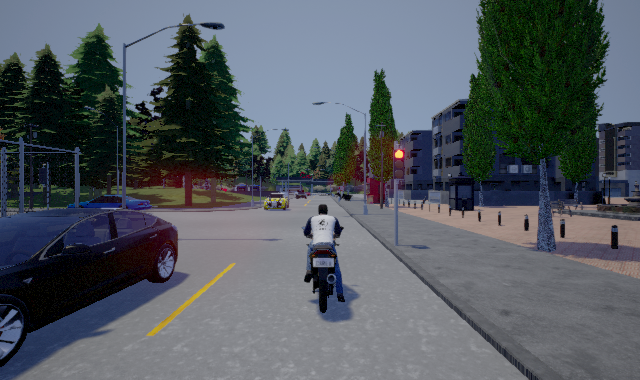motobike: (300, 204, 348, 311)
traffic_light: (393, 144, 404, 185)
vehicle: (1, 195, 178, 367), (264, 193, 289, 210)
